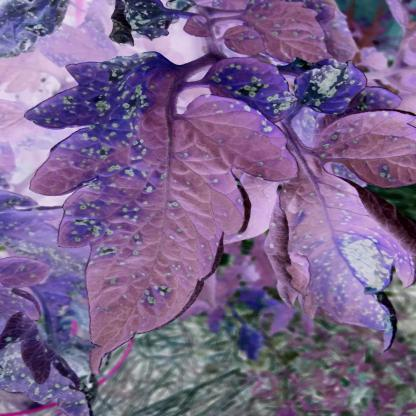tomato leaf bacterial spot: (25, 33, 300, 393), (264, 160, 416, 351), (194, 51, 372, 124), (211, 1, 346, 66), (318, 109, 416, 182)
